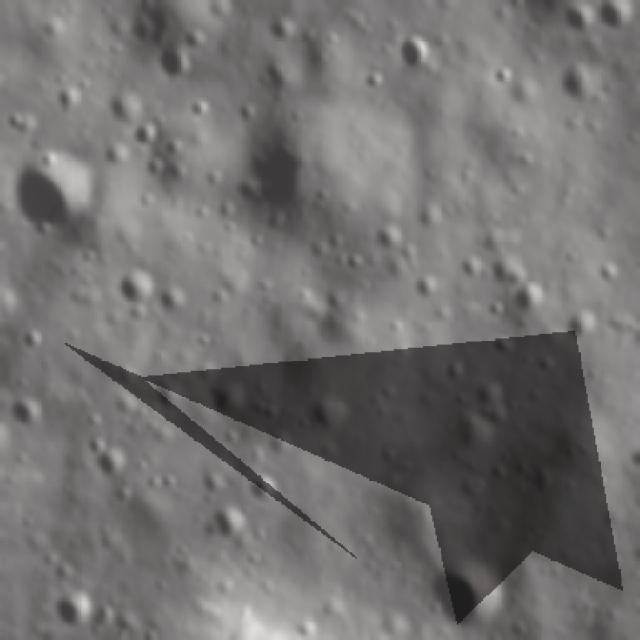crater: (15, 156, 101, 242), (418, 557, 512, 623), (50, 582, 95, 630), (210, 375, 258, 420), (9, 392, 46, 446), (508, 274, 555, 315), (389, 34, 437, 72), (92, 438, 131, 478), (121, 277, 164, 311), (248, 473, 286, 507)
